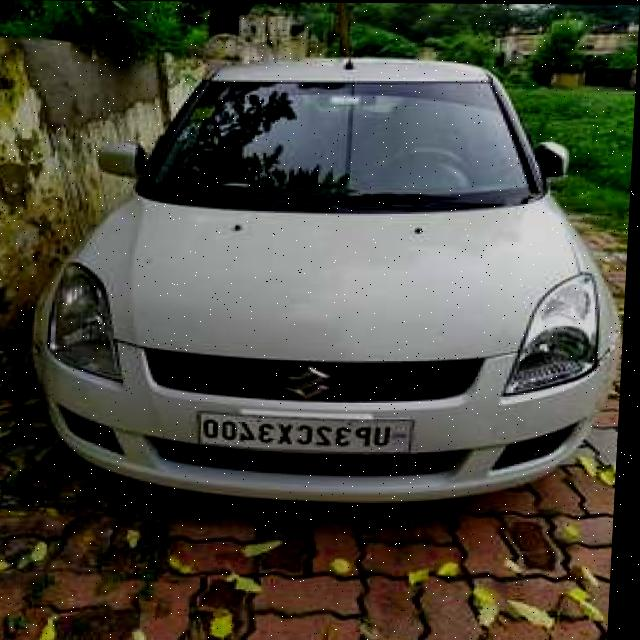plate: (201, 413, 418, 456)
